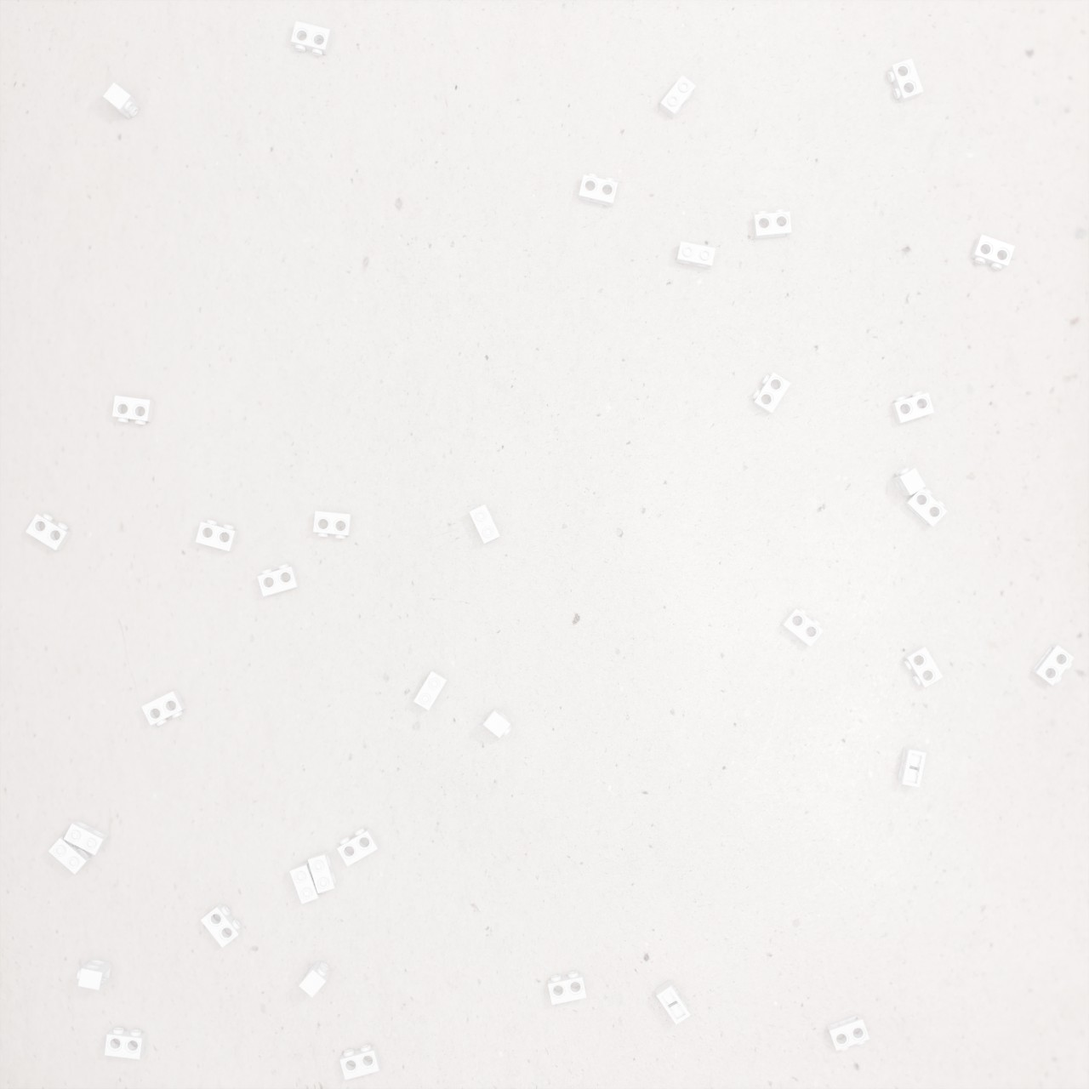lego: (200, 903, 242, 948), (1031, 644, 1075, 686), (48, 834, 93, 874), (903, 487, 948, 527), (781, 607, 824, 647), (26, 513, 72, 550), (903, 646, 943, 688), (337, 828, 380, 867), (752, 372, 791, 415), (141, 689, 186, 726), (659, 75, 696, 120), (887, 58, 924, 103), (826, 1014, 870, 1051), (970, 234, 1015, 270), (655, 980, 691, 1025), (64, 820, 109, 855), (340, 1044, 381, 1080), (413, 669, 448, 711), (291, 21, 333, 56), (891, 391, 935, 424), (257, 564, 300, 597), (104, 1027, 147, 1060), (195, 519, 238, 551), (289, 861, 321, 904), (103, 82, 140, 119), (578, 173, 618, 207), (548, 971, 587, 1005), (308, 850, 338, 894), (469, 504, 501, 544), (112, 395, 154, 425), (897, 747, 927, 788), (299, 960, 331, 998), (752, 209, 792, 239), (676, 241, 716, 269), (313, 511, 353, 539), (77, 959, 112, 990), (892, 467, 926, 496), (483, 707, 512, 738)
